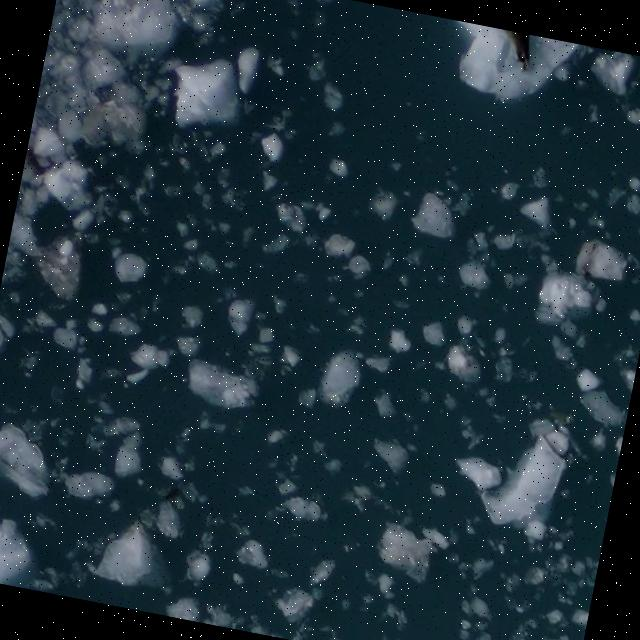seal: (505, 30, 531, 72)
